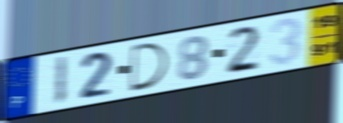2: (77, 49, 117, 103), (223, 25, 264, 76)
3: (268, 15, 307, 68)
8: (177, 34, 211, 82)
D: (129, 40, 172, 94)
I: (52, 54, 69, 108)
